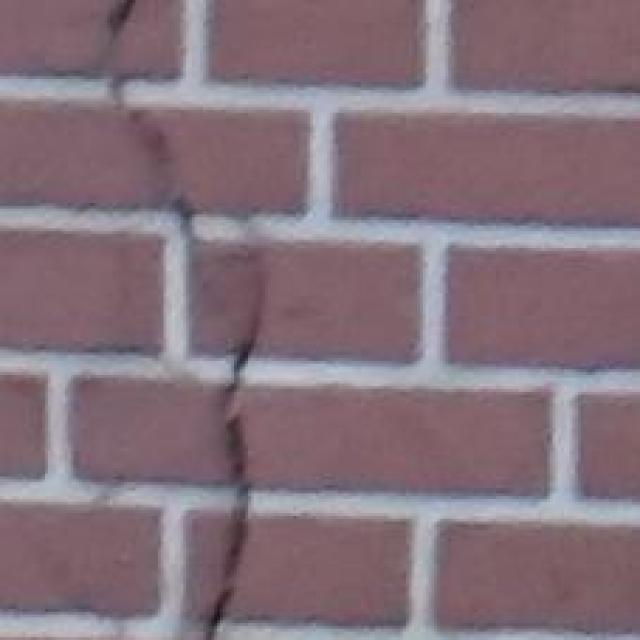Crack: (55, 0, 393, 640)
